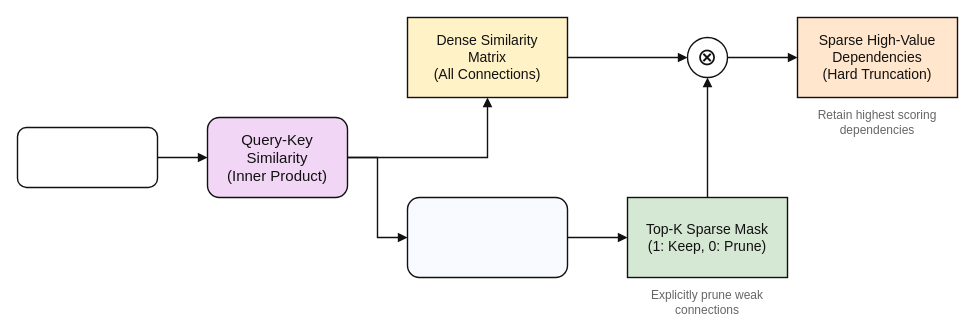
Image size: 976x335. Some labels were removed from this diagram. The box of each missing label's shape, as (x1, y1, x2, y2) in pixels:
Candidate Tokens (Q & K): (16, 126, 158, 188)
Similarity Ranking & Top-K Selection: (406, 196, 568, 278)
